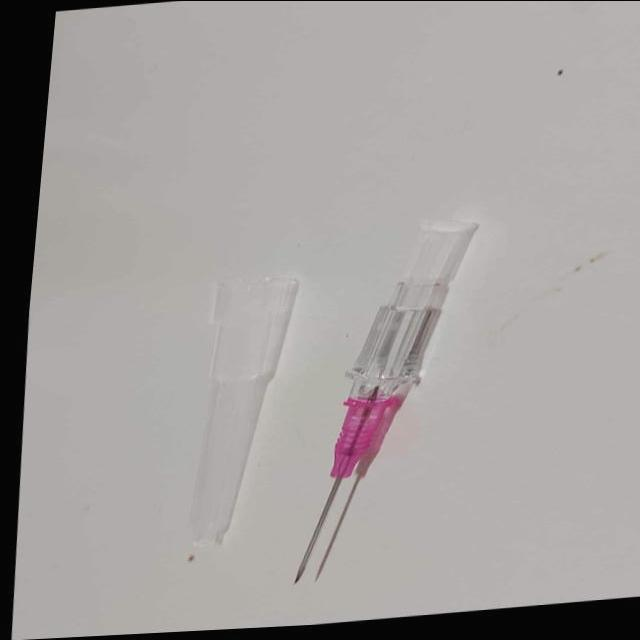Infectious: (187, 274, 300, 548)
Sharps: (291, 218, 480, 585)
